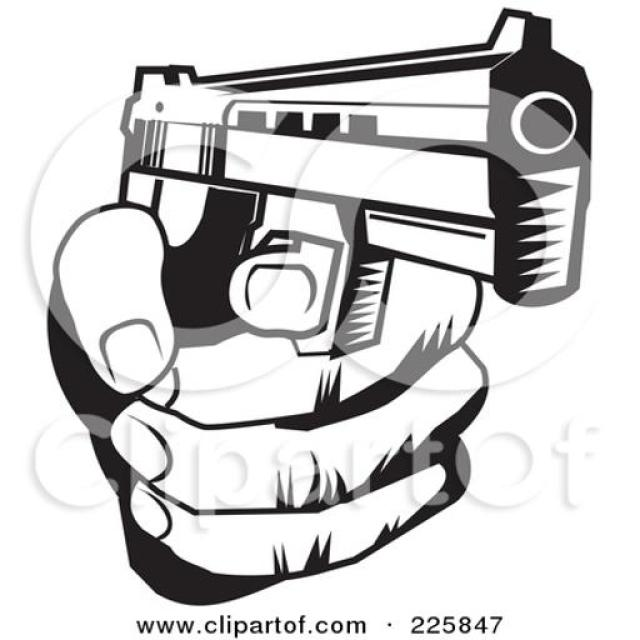pistol: (119, 6, 599, 336)
